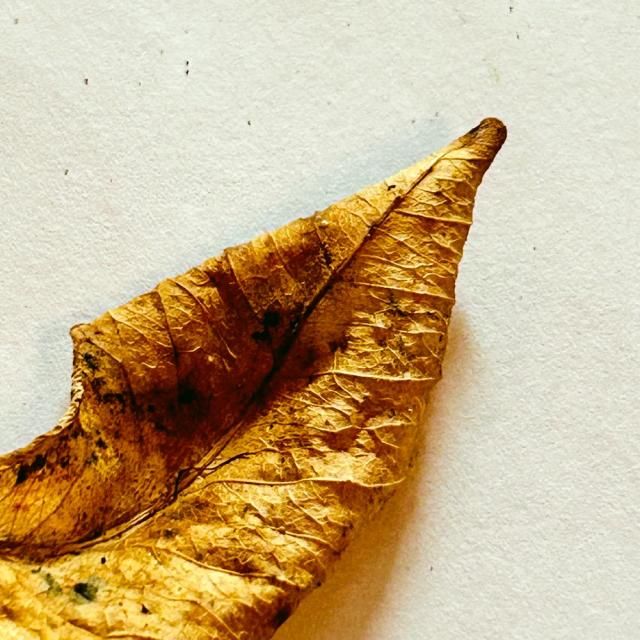DryLeaf_Lemon: (0, 120, 506, 639)
